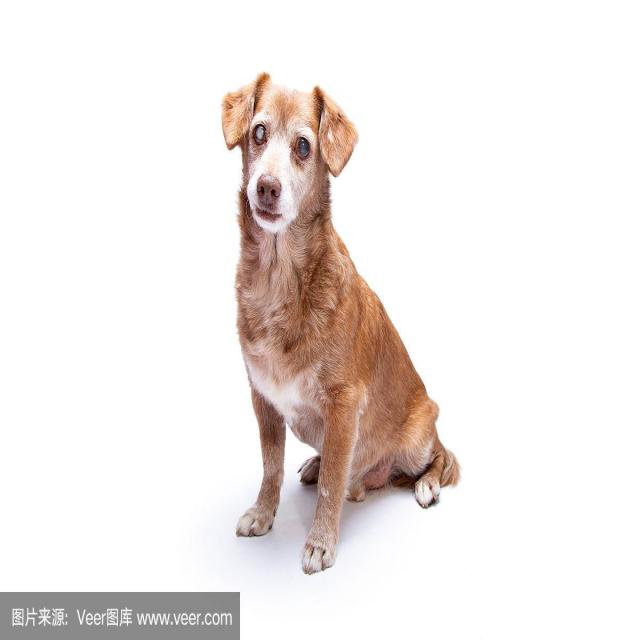eye: (291, 132, 312, 164), (252, 121, 269, 148)
